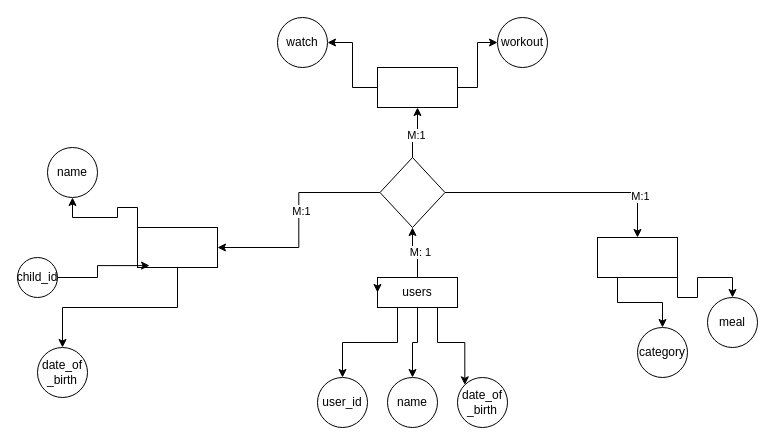
The diagram is 775 pixels wide and 445 high, and some of its shapes have lost their labels. Each missing label, with the centre of its shape:
"childrens" goes at (x=177, y=247).
"meals" goes at (x=637, y=257).
"mencatat" goes at (x=412, y=192).
"schedules" goes at (x=417, y=87).
